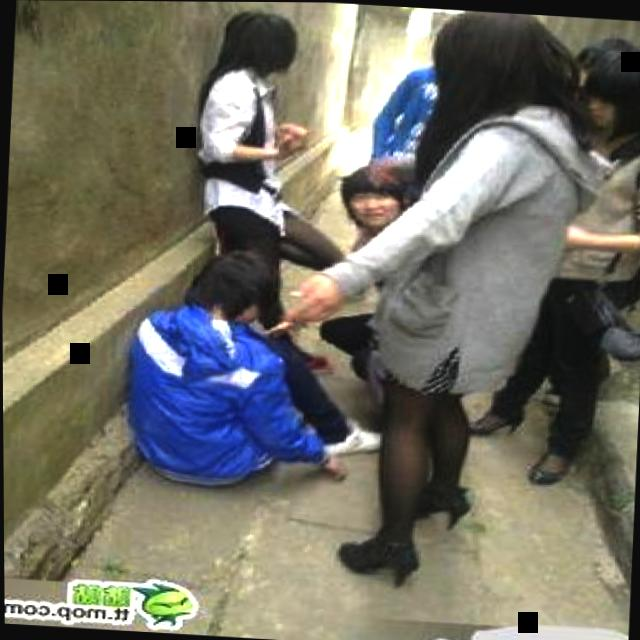Fall-Detected: (108, 228, 390, 500)
